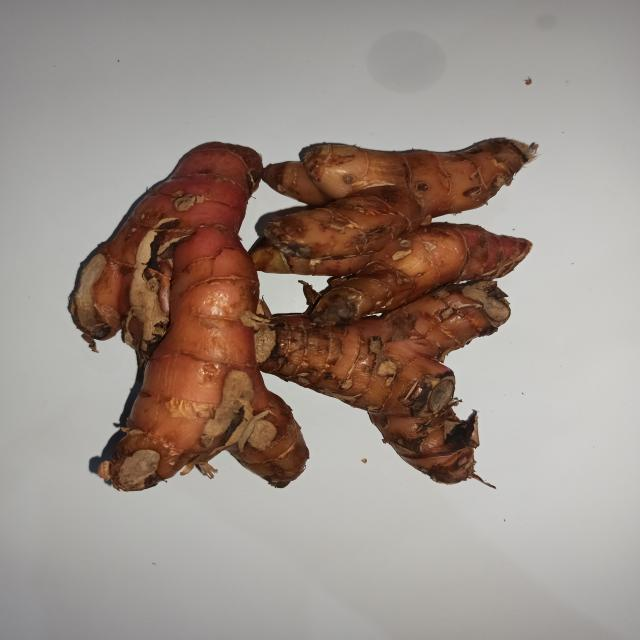ginger: (78, 126, 552, 485)
